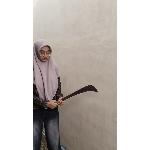Golok: (53, 82, 100, 103)
